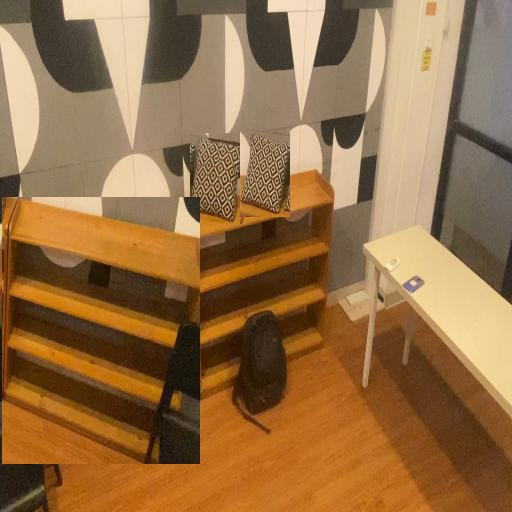bantal: (190, 133, 244, 224), (240, 132, 290, 217)
hp: (402, 272, 426, 297)
lemari: (2, 197, 200, 464)
meja: (360, 220, 512, 457)
remote AC: (385, 254, 401, 274)
tas ransel: (232, 308, 290, 436)
